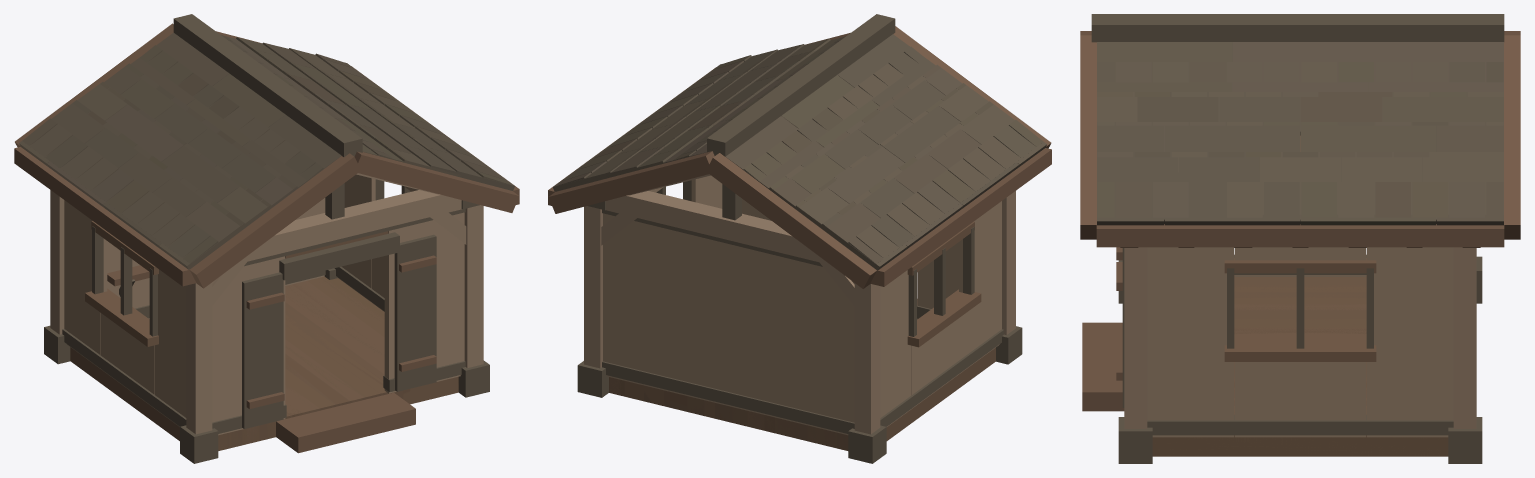
Rendered from building_coastal_store_a.glb.
3 renders of one model, left to right at view 1: azimuth 30°, elevation 25°; view 2: azimuth 150°, elevation 25°; view 3: azimuth 270°, elevation 25°, orthographic. The views are drawn at different scales.
Visible parts, largest first — view 1: building_coastal_store_a_LOD0_hut, building_coastal_store_a_LOD1_hut, building_coastal_store_a_LOD2_hut; view 2: building_coastal_store_a_LOD0_hut, building_coastal_store_a_LOD1_hut, building_coastal_store_a_LOD2_hut; view 3: building_coastal_store_a_LOD0_hut, building_coastal_store_a_LOD1_hut, building_coastal_store_a_LOD2_hut.
Boxes of the visible parts, x1,y1,x2,y2 form: building_coastal_store_a_LOD0_hut: [14, 14, 519, 462]; building_coastal_store_a_LOD1_hut: [14, 14, 519, 463]; building_coastal_store_a_LOD2_hut: [19, 15, 514, 448]; building_coastal_store_a_LOD0_hut: [548, 15, 1051, 462]; building_coastal_store_a_LOD1_hut: [548, 15, 1051, 463]; building_coastal_store_a_LOD2_hut: [553, 14, 1046, 449]; building_coastal_store_a_LOD0_hut: [1080, 15, 1520, 463]; building_coastal_store_a_LOD1_hut: [1080, 14, 1520, 463]; building_coastal_store_a_LOD2_hut: [1091, 14, 1503, 437].
Bounding box in the file's own units: 4.72 × 3.95 × 4.41.
